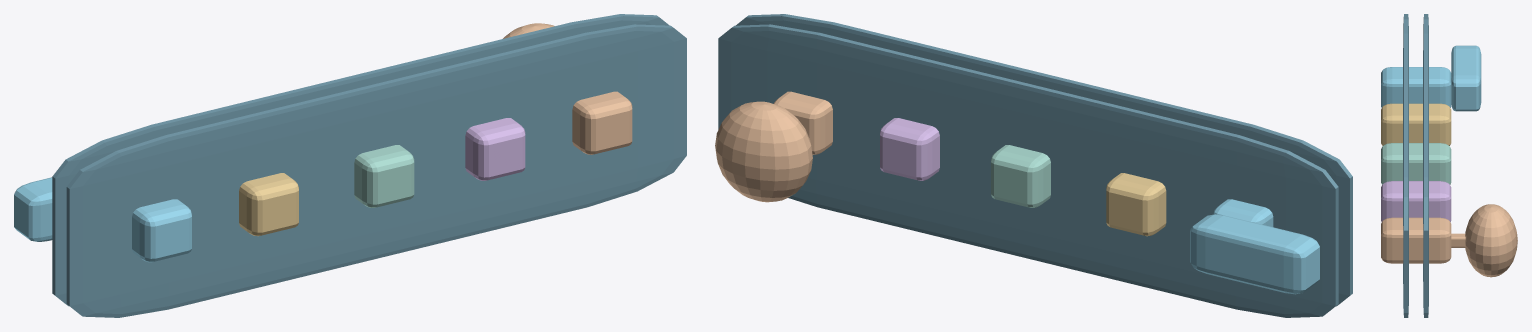
Rendered from membrane-context.glb.
3 views of the same model, side by side, from view 1: azimuth 30°, elevation 25°; view 2: azimuth 150°, elevation 25°; view 3: azimuth 270°, elevation 25° (orthographic). The views are drawn at different scales.
Visible parts, largest first — view 1: Illustrative membrane, Illustrative membrane.001, Complex_V, Complex_III, Complex_IV, Complex_I, Complex_II, Complex_I_arm; view 2: Illustrative membrane.001, Illustrative membrane, Complex_V_head, Complex_I_arm, Complex_II, Complex_IV, Complex_III, Complex_V, Complex_I; view 3: Complex_V_head, Complex_V, Complex_II, Complex_III, Complex_IV, Complex_I, Complex_I_arm, Illustrative membrane, Illustrative membrane.001, Complex_V_stalk.
Boxes of the visible parts, bbox=[...] form: Illustrative membrane: bbox=[66, 24, 686, 317]; Illustrative membrane.001: bbox=[52, 14, 669, 306]; Complex_V: bbox=[572, 91, 632, 154]; Complex_III: bbox=[354, 145, 414, 207]; Complex_IV: bbox=[465, 118, 525, 180]; Complex_I: bbox=[132, 199, 191, 262]; Complex_II: bbox=[239, 173, 298, 236]; Complex_I_arm: bbox=[14, 177, 52, 241]; Illustrative membrane.001: bbox=[718, 24, 1338, 317]; Illustrative membrane: bbox=[736, 14, 1352, 306]; Complex_V_head: bbox=[715, 101, 812, 202]; Complex_I_arm: bbox=[1190, 214, 1319, 294]; Complex_II: bbox=[1106, 173, 1166, 236]; Complex_IV: bbox=[880, 118, 939, 180]; Complex_III: bbox=[991, 145, 1050, 207]; Complex_V: bbox=[773, 91, 832, 154]; Complex_I: bbox=[1213, 199, 1273, 226]; Complex_V_head: bbox=[1465, 204, 1517, 277]; Complex_V: bbox=[1381, 217, 1451, 263]; Complex_II: bbox=[1381, 103, 1451, 145]; Complex_III: bbox=[1381, 143, 1451, 184]; Complex_IV: bbox=[1381, 181, 1451, 221]; Complex_I: bbox=[1381, 67, 1451, 107]; Complex_I_arm: bbox=[1451, 45, 1481, 111]; Illustrative membrane: bbox=[1403, 14, 1408, 317]; Illustrative membrane.001: bbox=[1423, 14, 1428, 317]; Complex_V_stalk: bbox=[1451, 233, 1465, 247].
Size of the model in its own units: 15.1 by 4 by 4.1.
